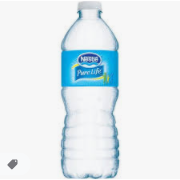Bottle: (61, 2, 120, 180)
